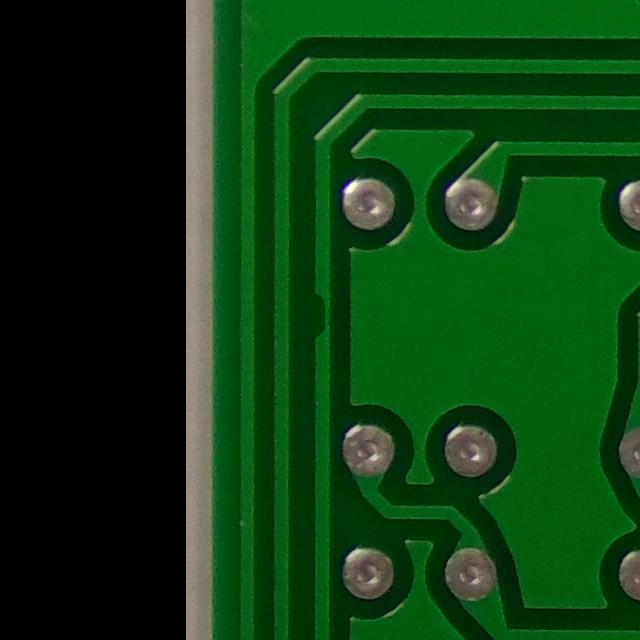mouse_bite: (297, 281, 343, 359)
